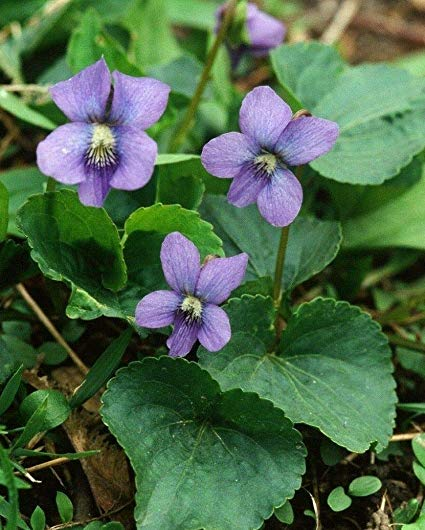violet: (205, 77, 339, 230), (44, 62, 156, 205), (138, 226, 246, 359)
